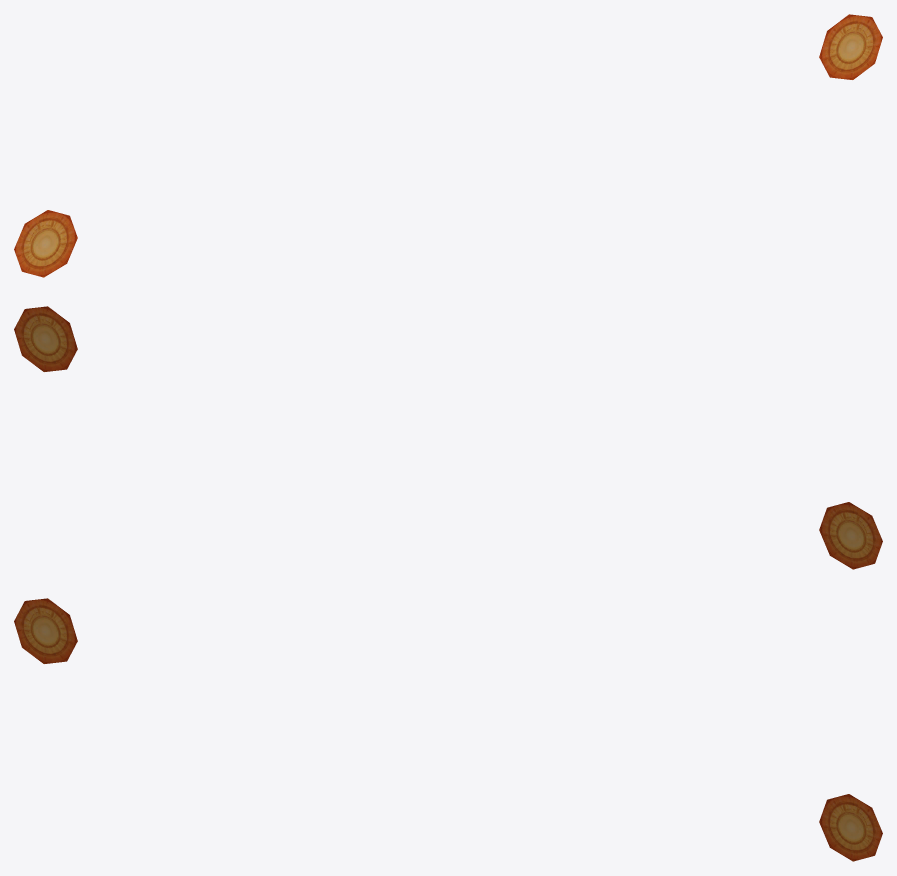
The model's file is hutt_fighter_medium_booster_s02_on_l0.fbx.
3 views of the same model, one above another, from view 1: azimuth 30°, elevation 25°; view 2: azimuth 150°, elevation 25°; view 3: azimuth 330°, elevation 25° (orthographic).
Parts seen in each view (by area): view 1: mesh_node; view 2: mesh_node; view 3: mesh_node.
Boxes of the visible parts, box(x1,y1,x2,y2) form: mesh_node: box(14, 14, 882, 277); mesh_node: box(14, 306, 882, 569); mesh_node: box(14, 598, 882, 861).
Bounding box in the file's own units: 3.5 × 0.2575 × 0.
1 material, 1 textured.
